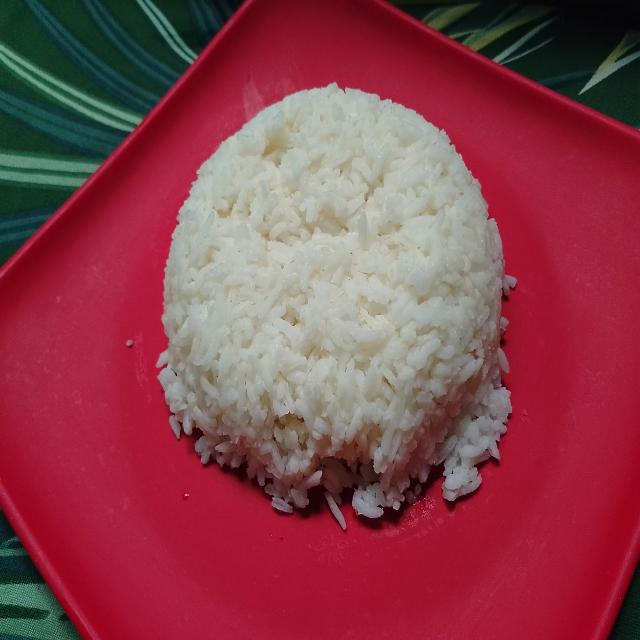Chicken -Chicken Inasal-: (152, 78, 517, 490)
